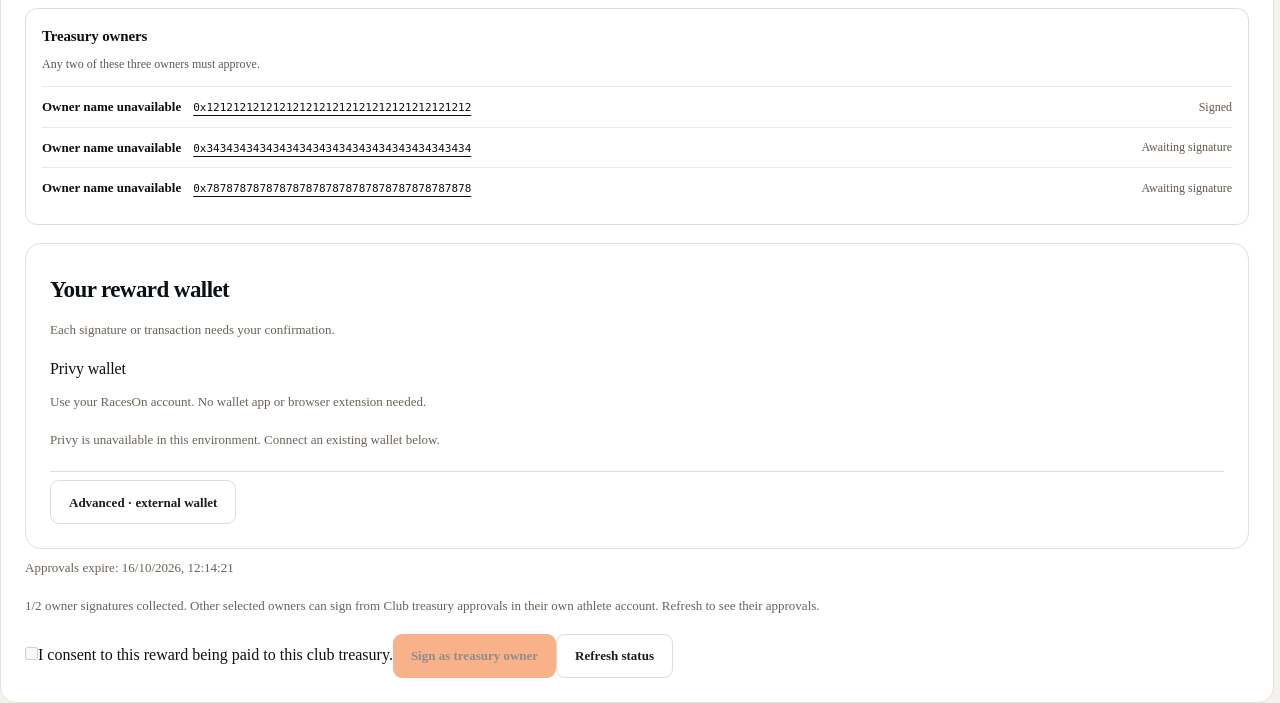
Test: refresh retires expired approvals and requires a new preparation
(page scrolled)
Expected: the text "1/2 owner signatures" is shown, [25,598,820,614]
Click the button "Refresh status" at {"x": 614, "y": 656}, box [556,634,673,678]
(page scrolled)
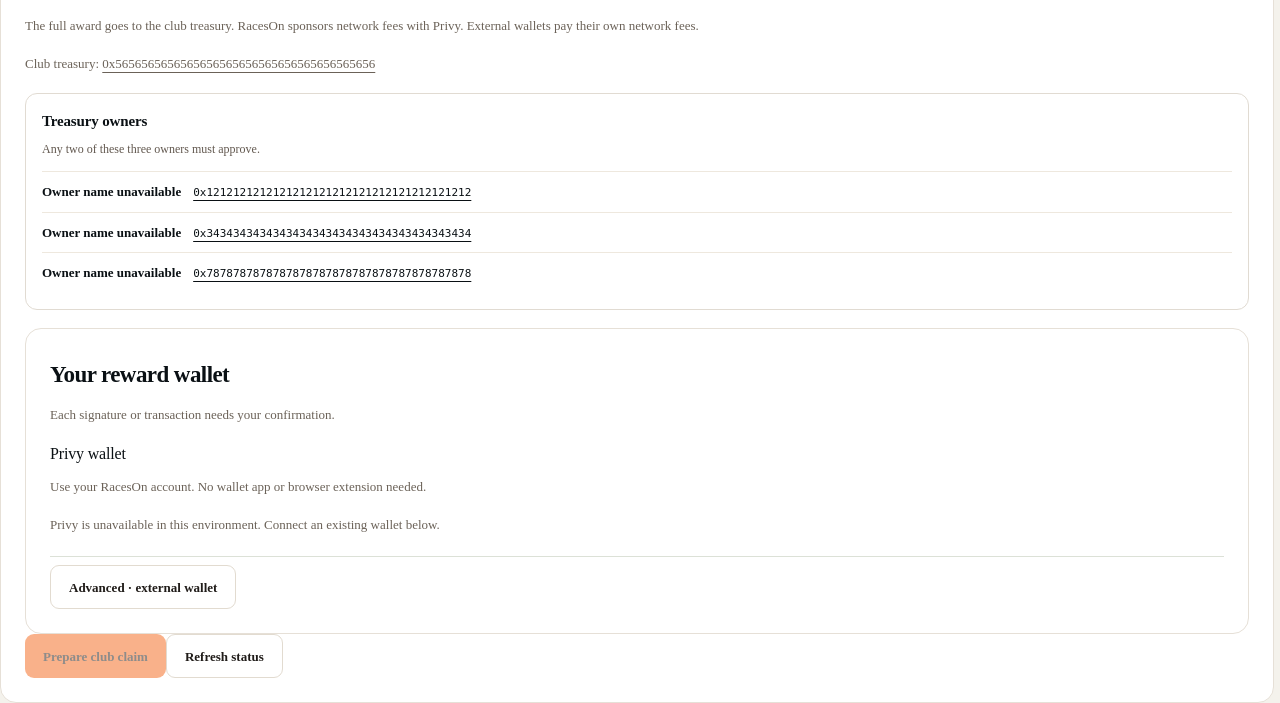
Now the button "Prepare club claim" is shown, box [25,634,166,678]
Now the text "1/2 owner signatures" is gone
